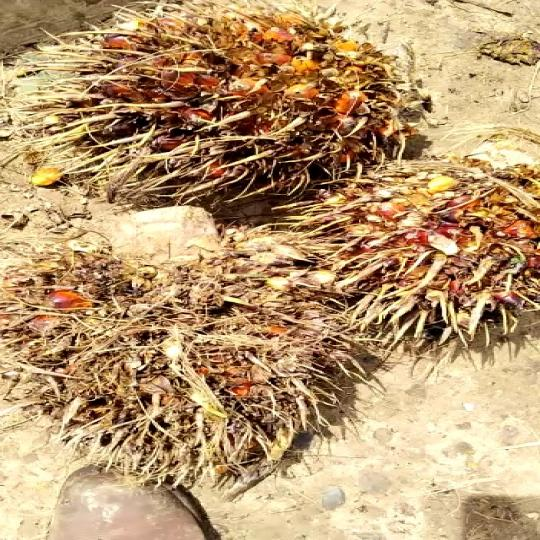terlalu masak: (2, 9, 447, 214), (0, 233, 372, 478), (276, 149, 540, 354)
